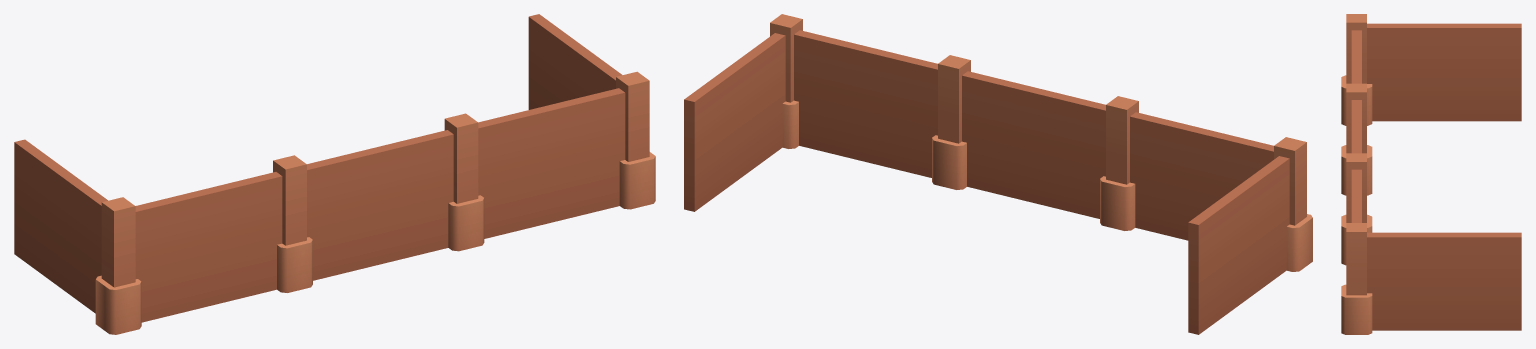
Rendered from fence-1x3.glb.
The picture shows the model from 3 angles, left to right: view 1: azimuth 30°, elevation 25°; view 2: azimuth 150°, elevation 25°; view 3: azimuth 270°, elevation 25°; orthographic projection. The views are drawn at different scales.
Parts seen in each view (by area): view 1: fence-1x3; view 2: fence-1x3; view 3: fence-1x3.
Boxes of the visible parts, <box> form: fence-1x3: <box>14,14,655,334</box>; fence-1x3: <box>684,14,1312,334</box>; fence-1x3: <box>1341,14,1521,334</box>.
Size of the model in its own units: 1.28 by 0.27 by 0.4376.
Materials: 1 (1 with a texture image).
